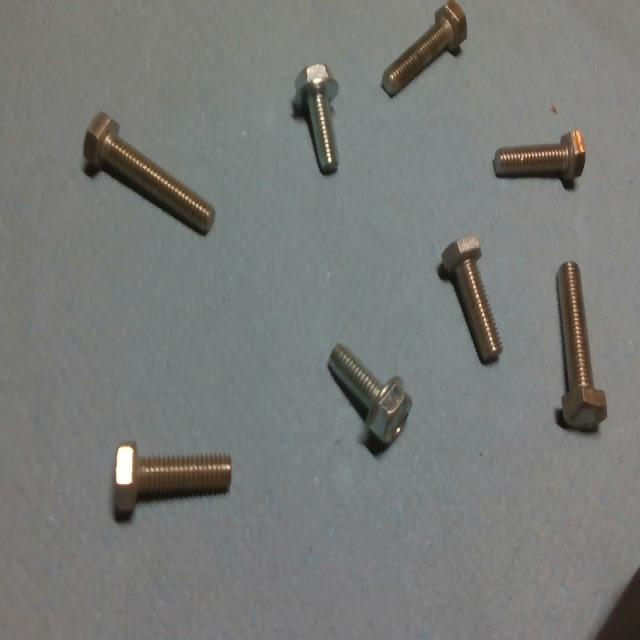Bolt: (83, 112, 215, 233), (113, 444, 233, 520), (326, 344, 412, 447), (381, 0, 467, 100), (437, 235, 503, 364), (557, 261, 606, 431), (292, 65, 338, 176), (492, 131, 585, 185)
